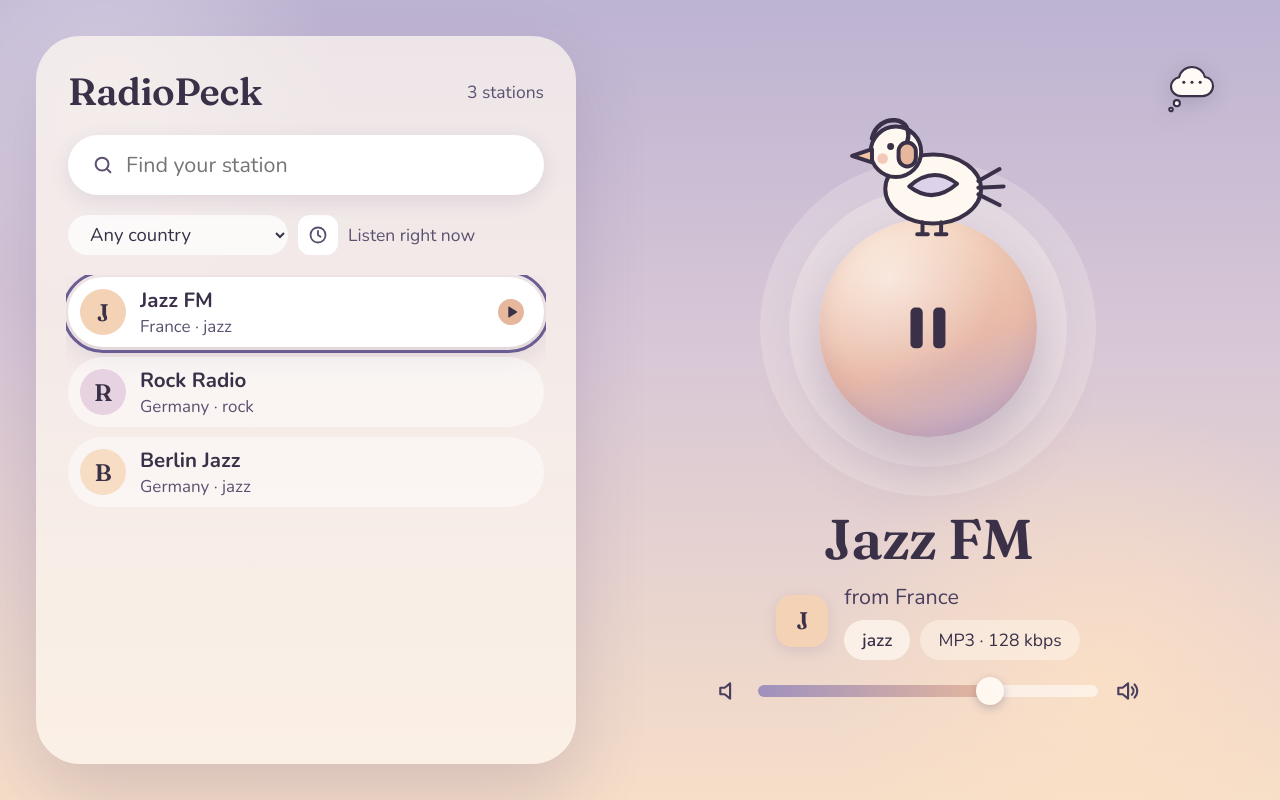
App: recently played › clears the search when switching to "Recently played"
The image size is (1280, 800).
Earlier steps of the test are not shown.
Type "rock" into the search field named "Search stations". click: (306, 165)
box: [68, 135, 544, 195]
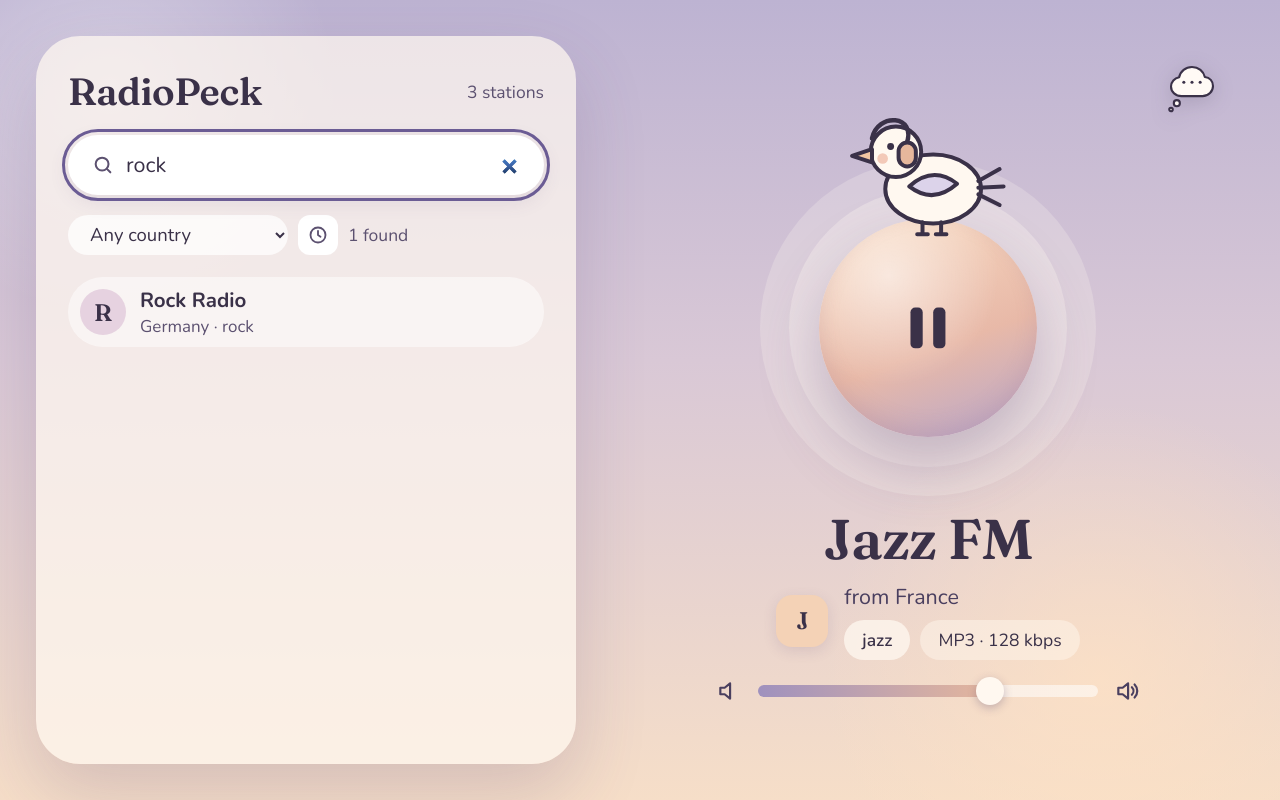
Click the button named "Recently played". click: (318, 235)
box: [298, 215, 338, 255]
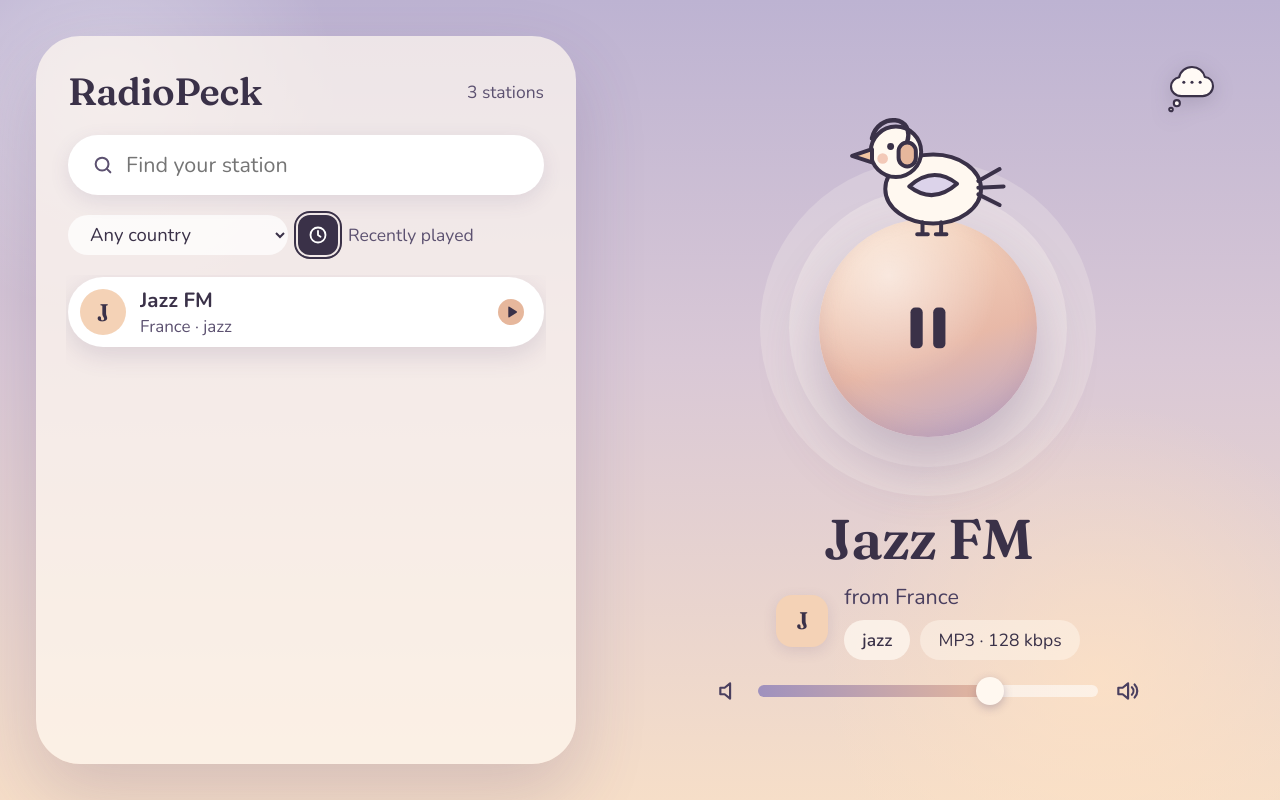
Result: the search field named "Search stations" is empty at [68, 135, 544, 195]
Result: the text "Jazz FM" is shown at [140, 286, 213, 314]
